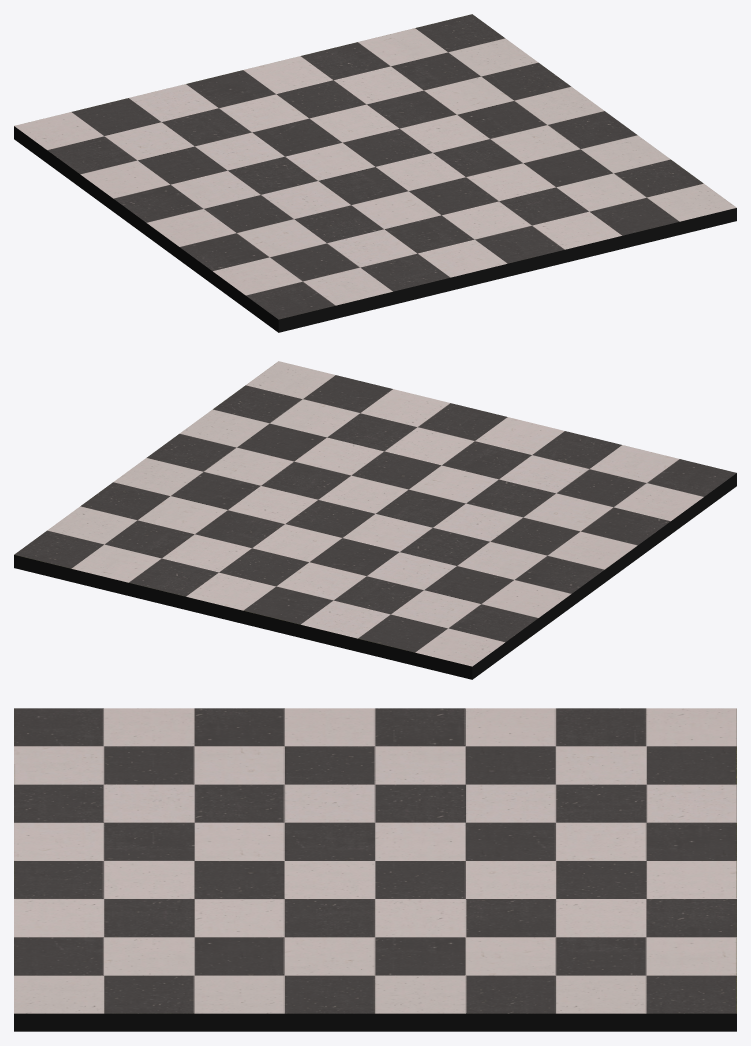
Rendered from board.glb.
The picture shows the model from 3 angles, top to bottom: view 1: azimuth 30°, elevation 25°; view 2: azimuth 150°, elevation 25°; view 3: azimuth 270°, elevation 25°; orthographic projection. The views are drawn at different scales.
Visible parts, largest first — view 1: board; view 2: board; view 3: board.
Boxes of the visible parts, x1,y1,x2,y2 form: board: [14, 14, 736, 332]; board: [14, 361, 736, 679]; board: [14, 708, 736, 1031].
Size of the model in its own units: 7.62 by 0.2103 by 7.62.
Materials: 2 (1 with a texture image).
